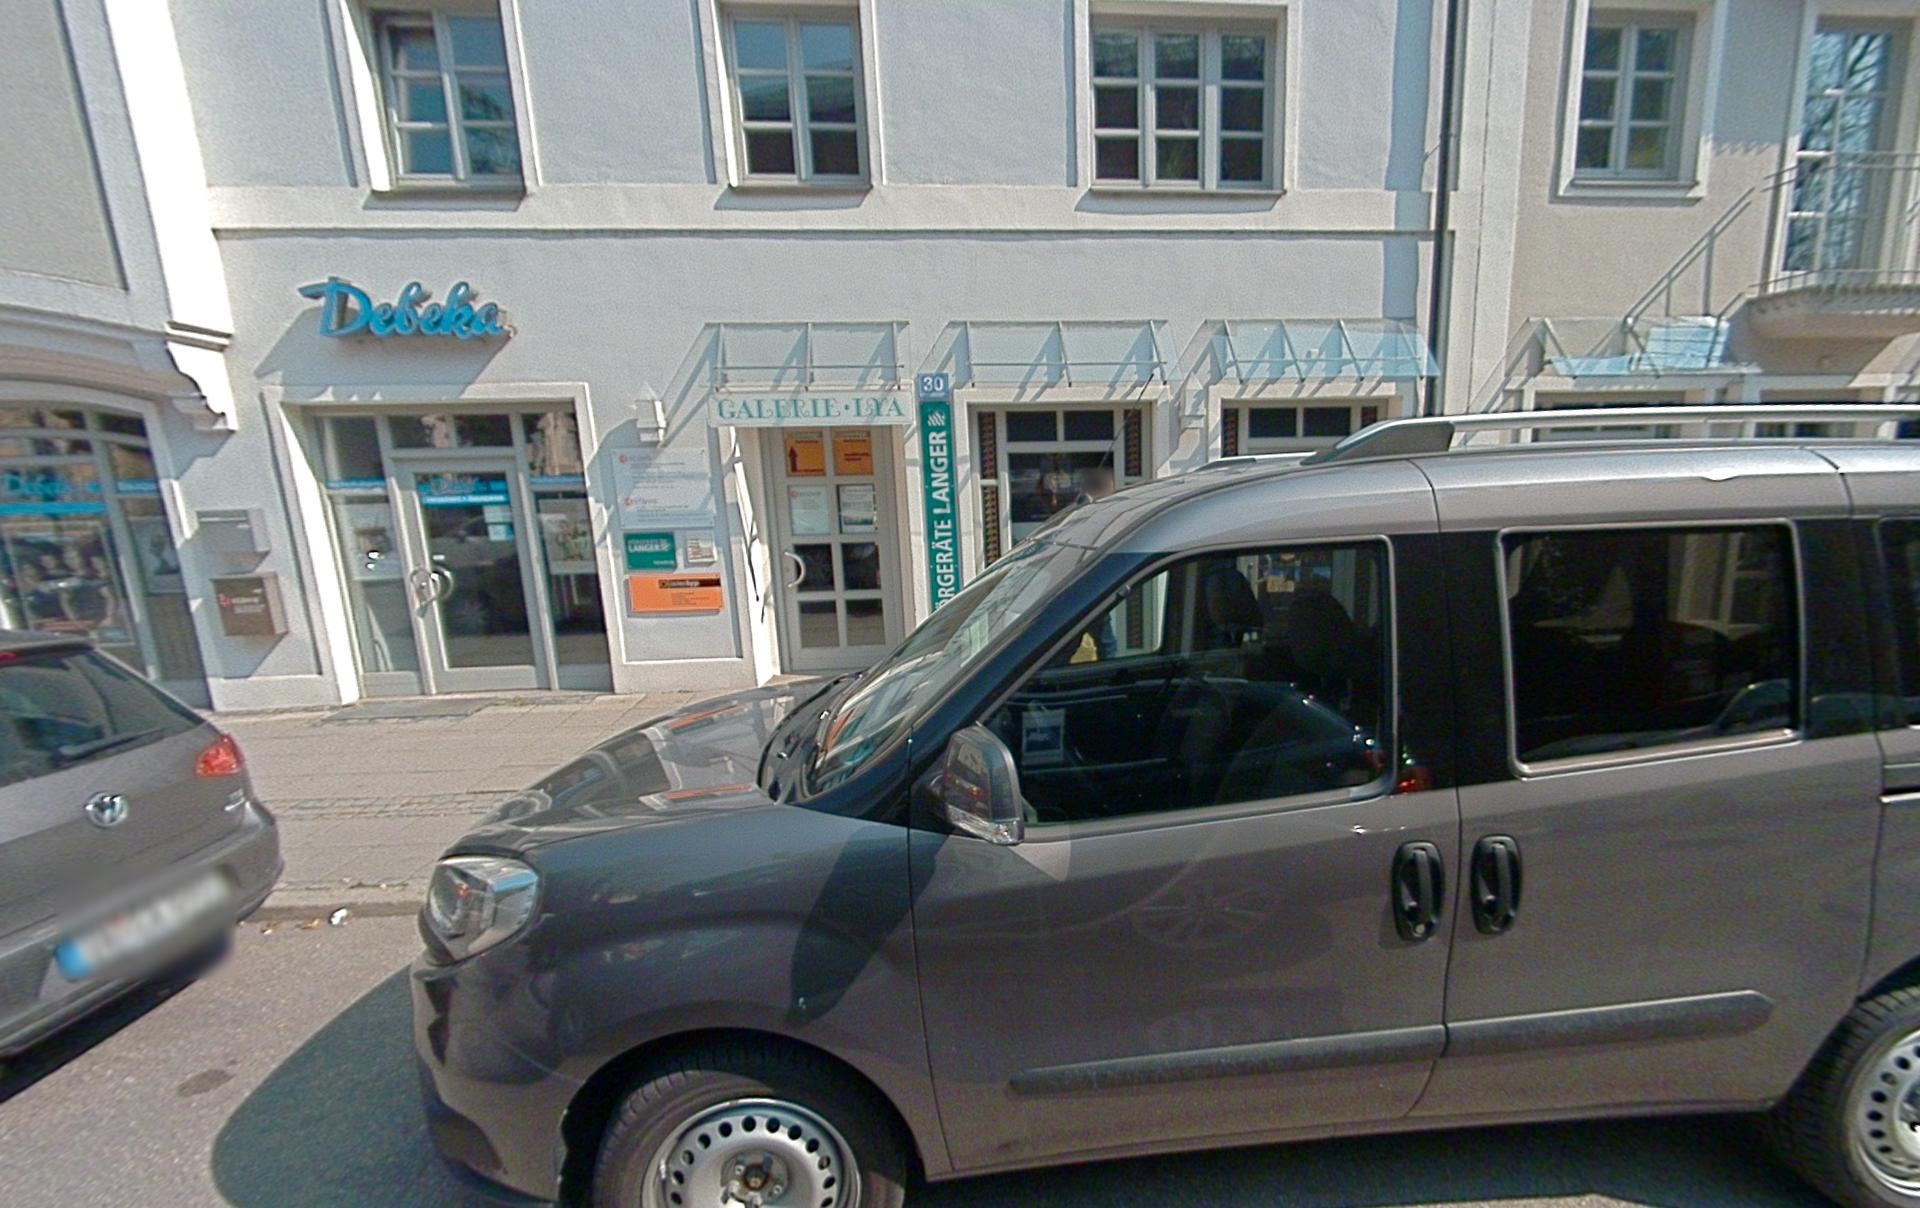car: (415, 416, 1919, 1205)
